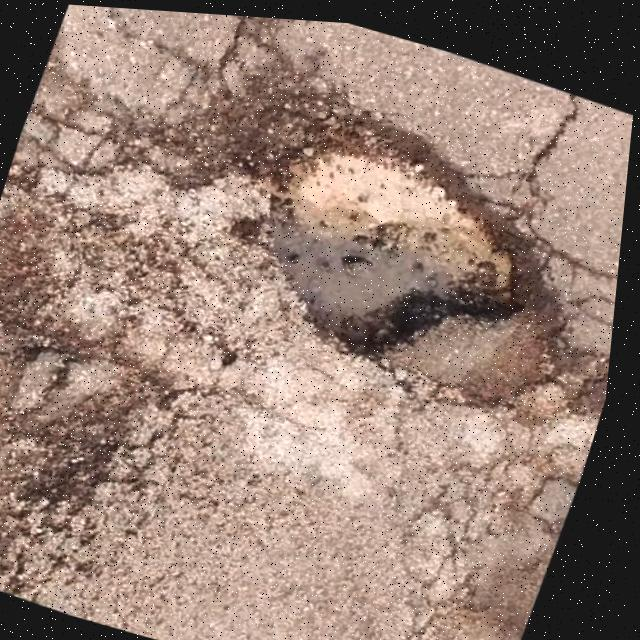Pothole: (135, 33, 585, 397), (0, 477, 38, 590)
